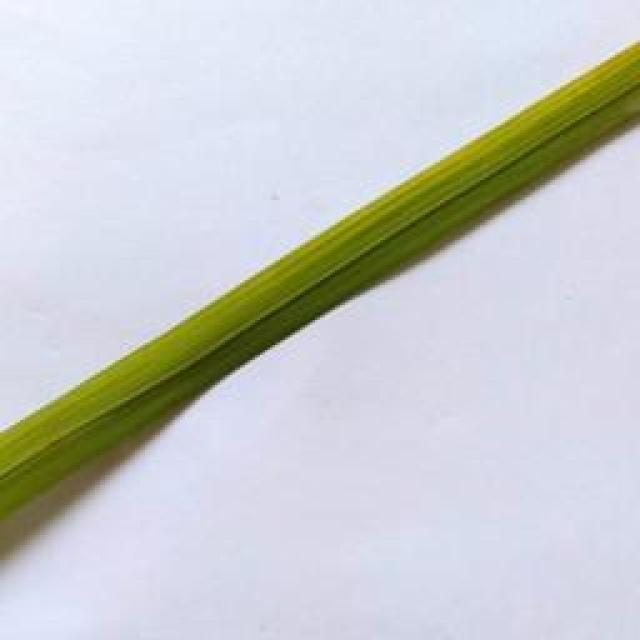Healthy-Plant: (0, 43, 640, 516)
